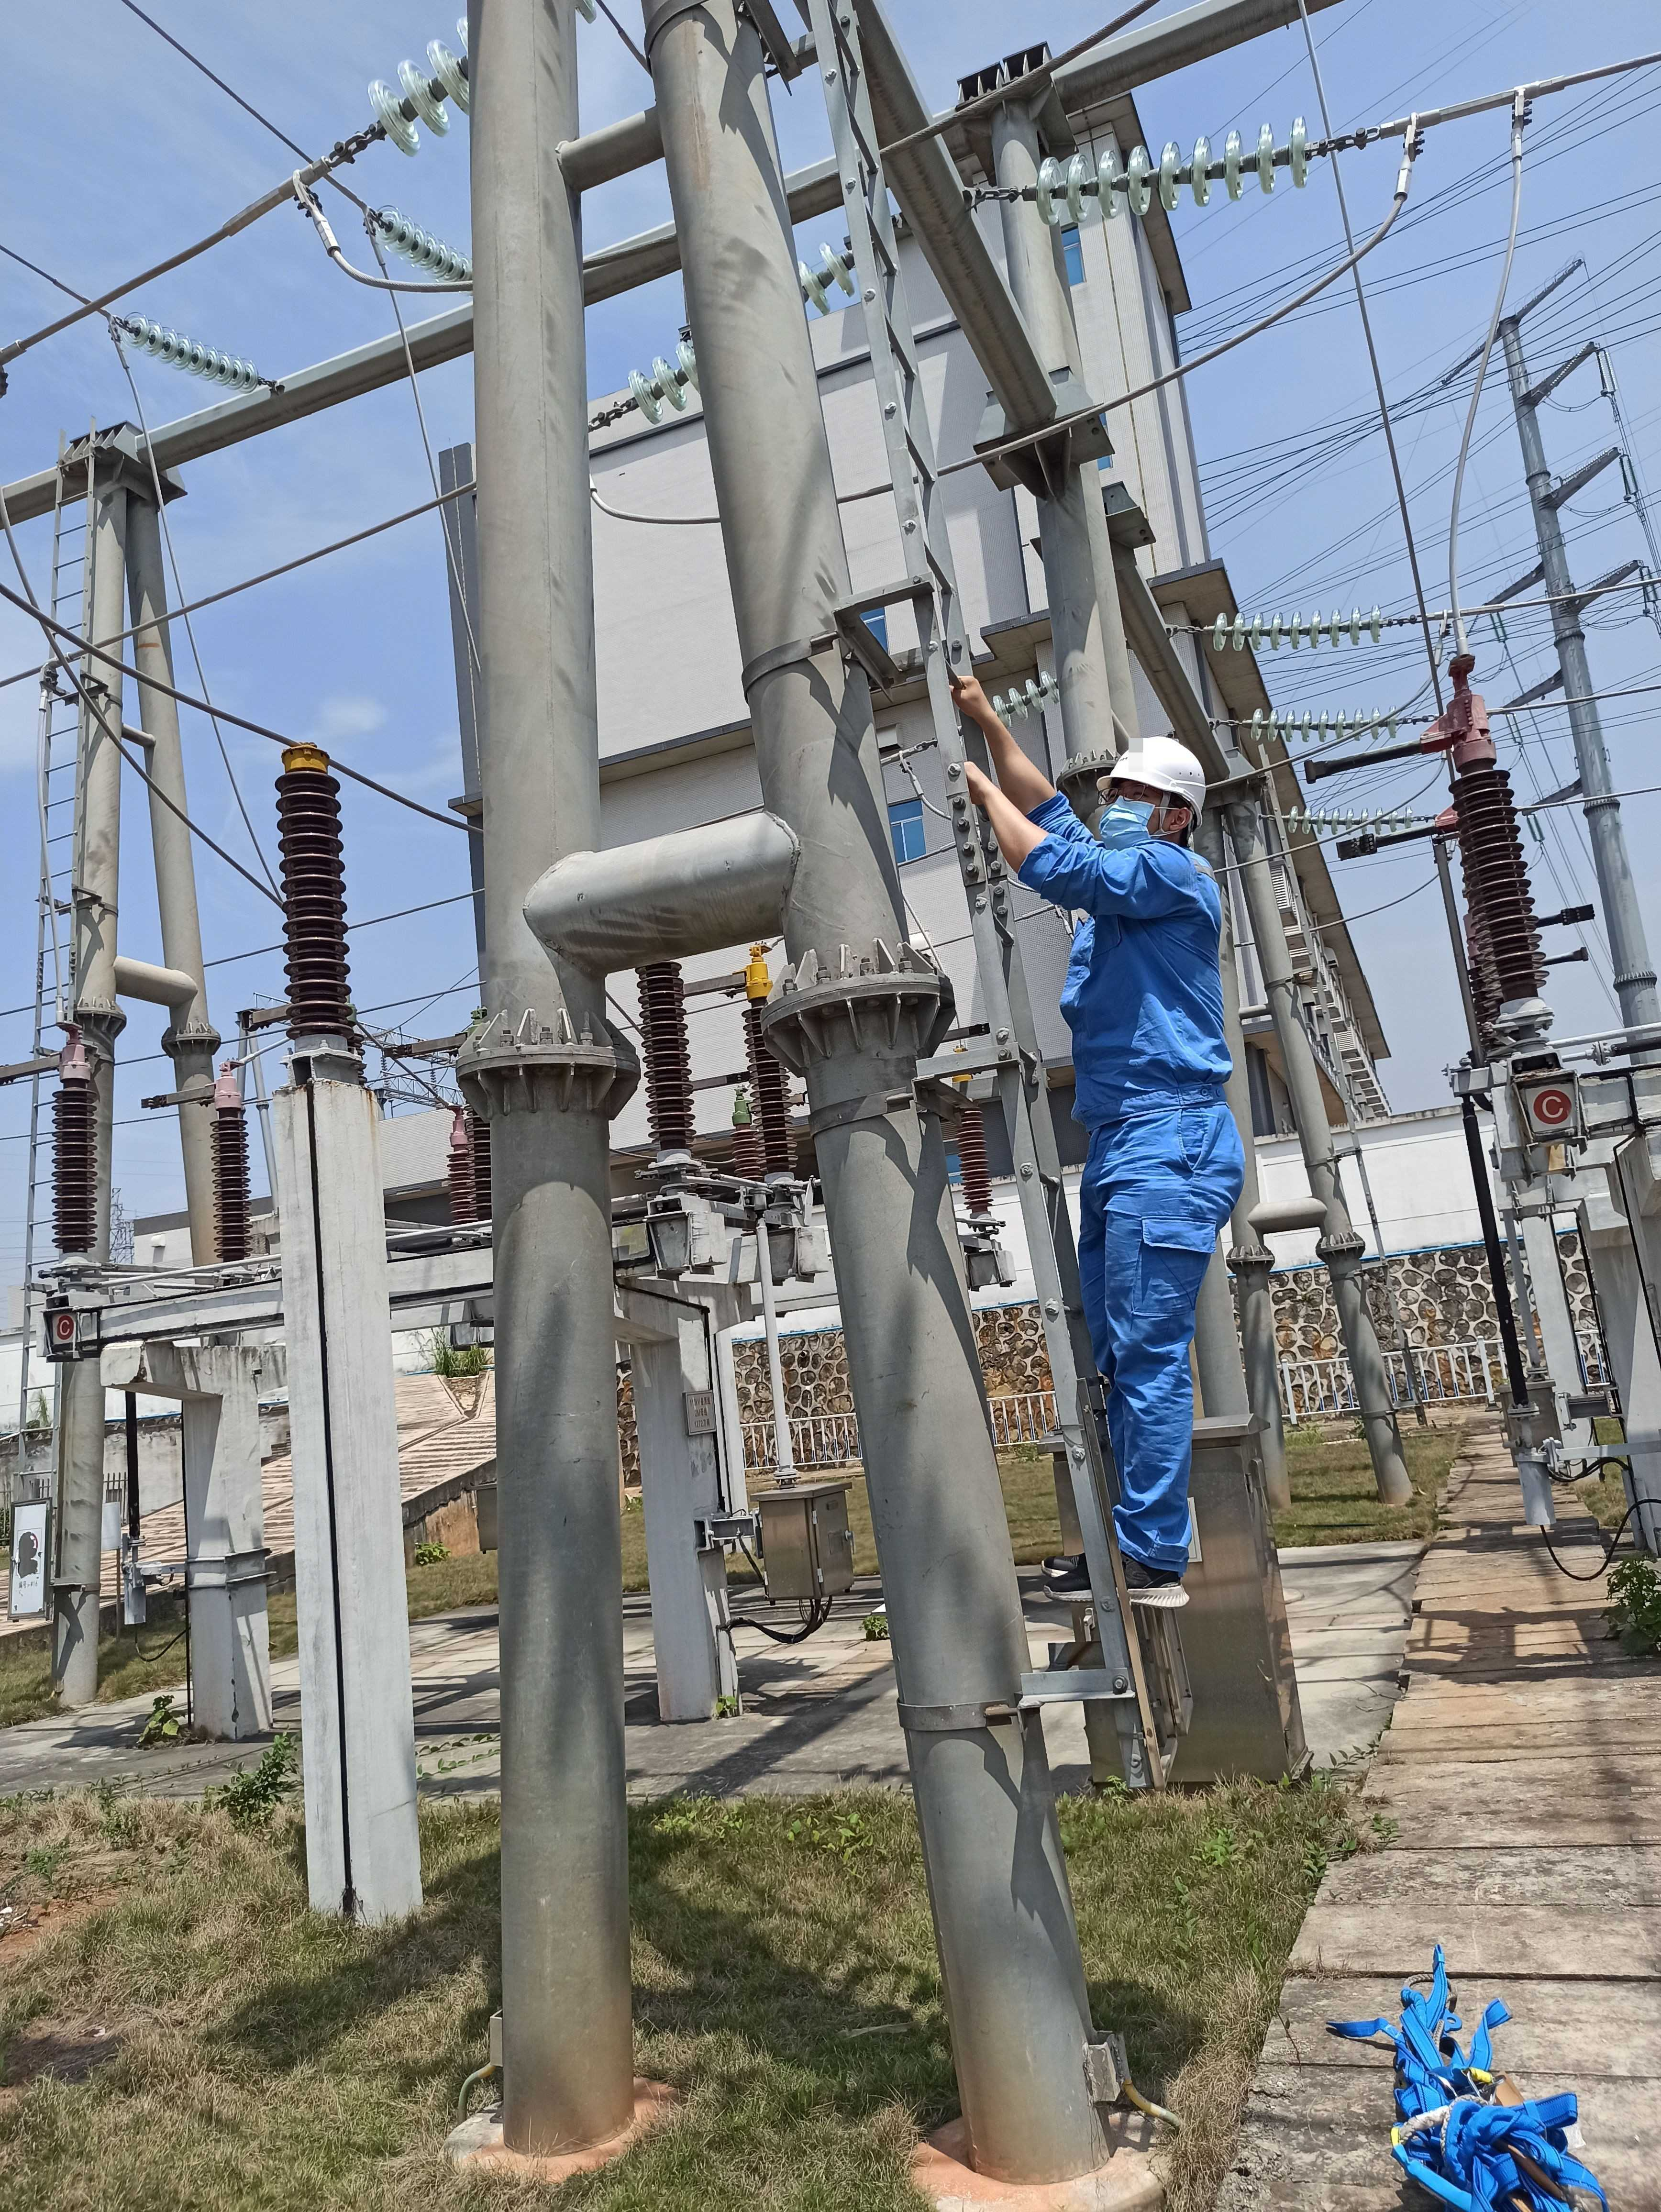downsuit: (1082, 1141, 1223, 1567)
upsuit: (1056, 839, 1242, 1123)
wrongtop: (965, 684, 1082, 836), (954, 790, 1117, 893)
